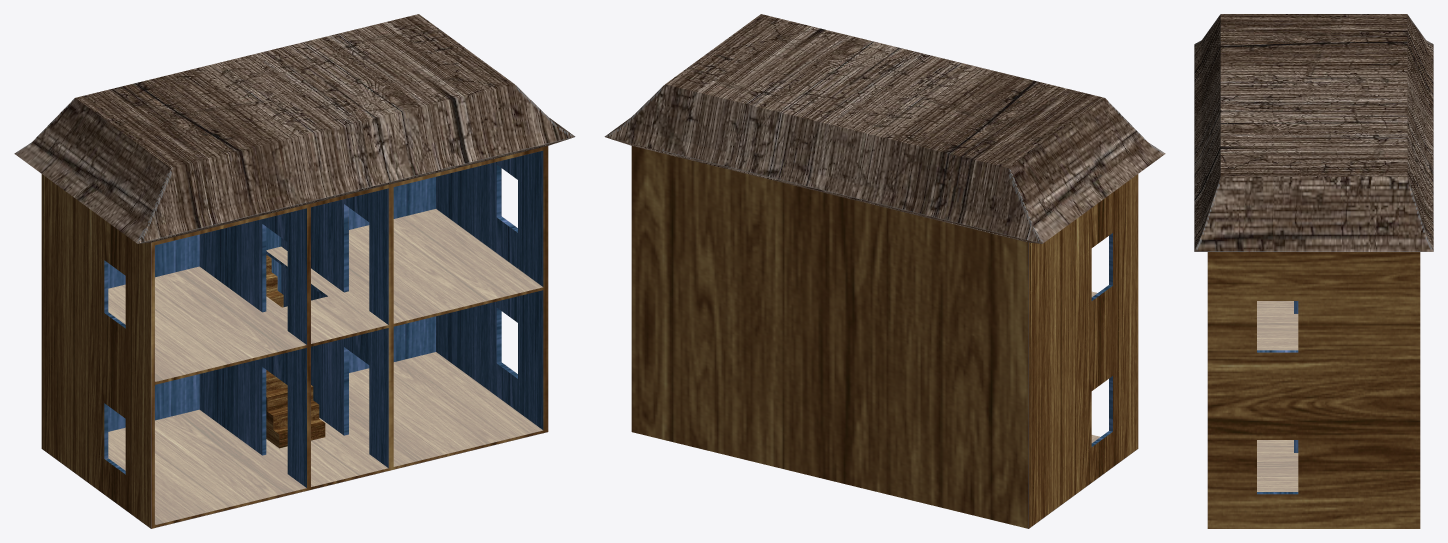
File: Doll House.fbx
3 renders of one model, left to right at view 1: azimuth 30°, elevation 25°; view 2: azimuth 150°, elevation 25°; view 3: azimuth 270°, elevation 25°, orthographic. The views are drawn at different scales.
Parts seen in each view (by area): view 1: pCube3; view 2: pCube3; view 3: pCube3.
Boxes of the visible parts, <box> form: pCube3: <box>14,14,575,528</box>; pCube3: <box>604,14,1165,528</box>; pCube3: <box>1194,14,1433,528</box>.
Bounding box in the file's own units: 11.5 × 8.76 × 5.6.
Materials: 2 (2 with a texture image).
